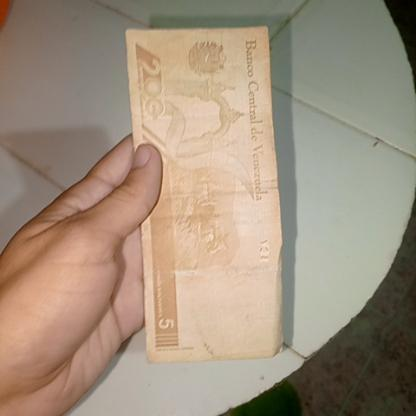five-back-vef: (126, 26, 282, 364)
